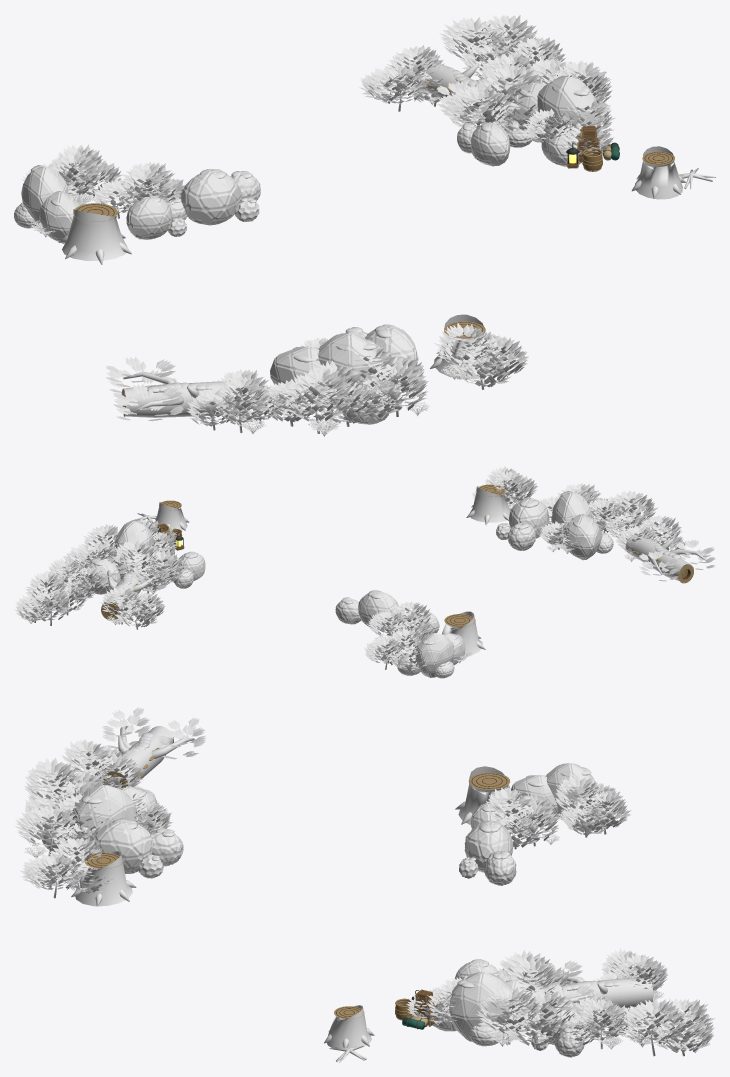
Rendered from SM_DF_Explorer_3_0_Macro.fbx.
The picture shows the model from 3 angles, top to bottom: view 1: azimuth 30°, elevation 25°; view 2: azimuth 150°, elevation 25°; view 3: azimuth 270°, elevation 25°; orthographic projection. The views are drawn at different scales.
Visible parts, largest first — view 1: SM_DF_Explorer_3_0_Macro; view 2: SM_DF_Explorer_3_0_Macro; view 3: SM_DF_Explorer_3_0_Macro.
Part boxes in pixels (x1,y1,x2,y2): SM_DF_Explorer_3_0_Macro: [14, 14, 715, 436]; SM_DF_Explorer_3_0_Macro: [14, 466, 715, 678]; SM_DF_Explorer_3_0_Macro: [14, 707, 715, 1062].
Size of the model in its own units: 3062 by 2803 by 338.
